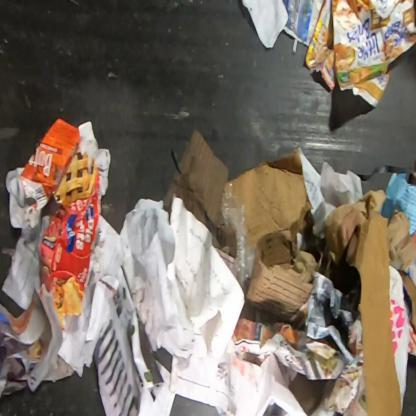cardboard: (39, 121, 111, 332), (304, 0, 415, 109), (349, 208, 402, 415), (228, 147, 314, 269), (163, 127, 235, 259), (245, 246, 320, 322), (397, 269, 415, 333)
soft_plastic: (221, 183, 257, 295), (389, 265, 415, 415)
